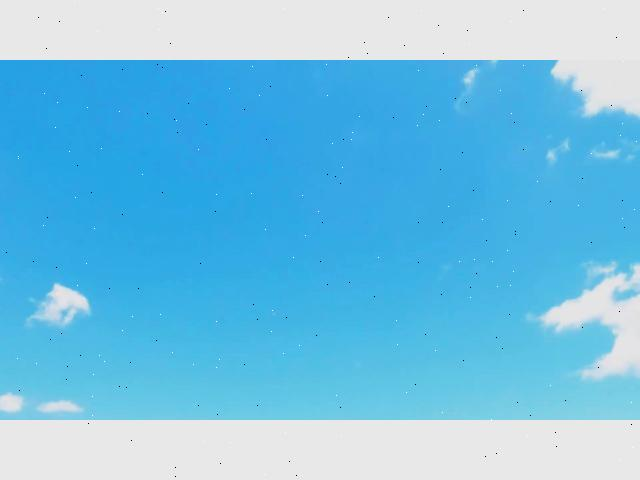Anti-Drone: (262, 301, 288, 321)
